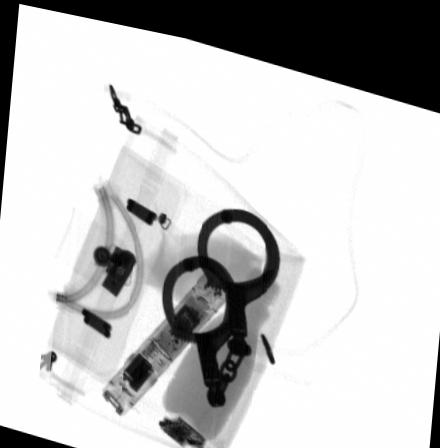Baton: (99, 261, 230, 412)
HandCuffs: (158, 198, 280, 400)
